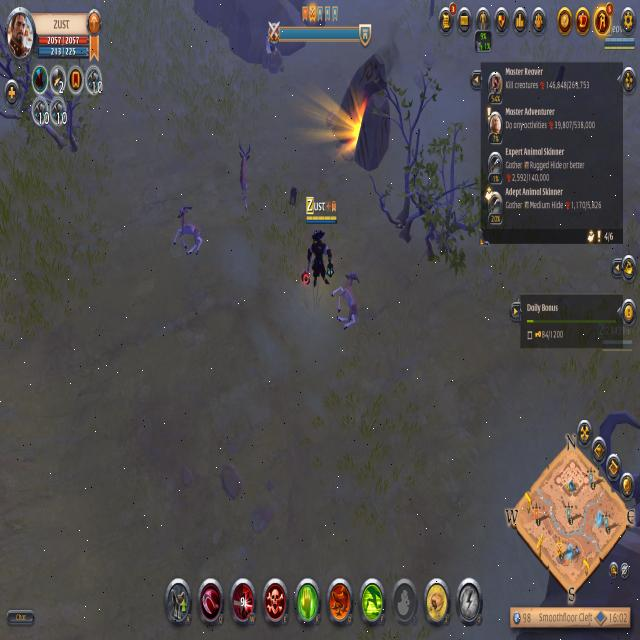deer_dead: (226, 140, 266, 224), (168, 202, 210, 262)
